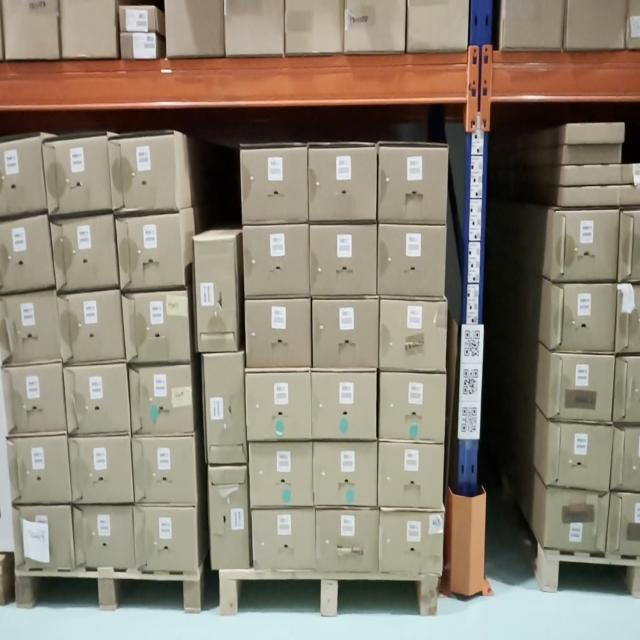box: (109, 135, 183, 218), (39, 136, 115, 216), (48, 210, 119, 292), (308, 145, 378, 222), (382, 298, 449, 375), (381, 141, 448, 216), (115, 218, 182, 293), (242, 151, 308, 227), (56, 290, 125, 361), (122, 289, 190, 361), (202, 357, 246, 467), (193, 239, 236, 351), (67, 437, 132, 511), (128, 364, 191, 439), (307, 227, 377, 294), (132, 436, 196, 508), (544, 487, 609, 557), (244, 373, 311, 440), (313, 299, 377, 369), (379, 230, 445, 296), (312, 372, 378, 438), (379, 442, 446, 506), (63, 366, 128, 431), (246, 302, 310, 368), (252, 510, 317, 574), (246, 227, 308, 294), (377, 511, 444, 573), (552, 354, 613, 421), (551, 422, 612, 489), (207, 470, 248, 569), (382, 376, 448, 437), (315, 443, 379, 505), (134, 510, 198, 572), (71, 507, 131, 573), (317, 509, 379, 572), (557, 218, 617, 283), (8, 442, 70, 502), (558, 288, 616, 352), (11, 510, 72, 569), (250, 444, 312, 502), (3, 370, 61, 432), (560, 188, 640, 208), (562, 166, 640, 184), (567, 123, 626, 144), (565, 146, 623, 164)
